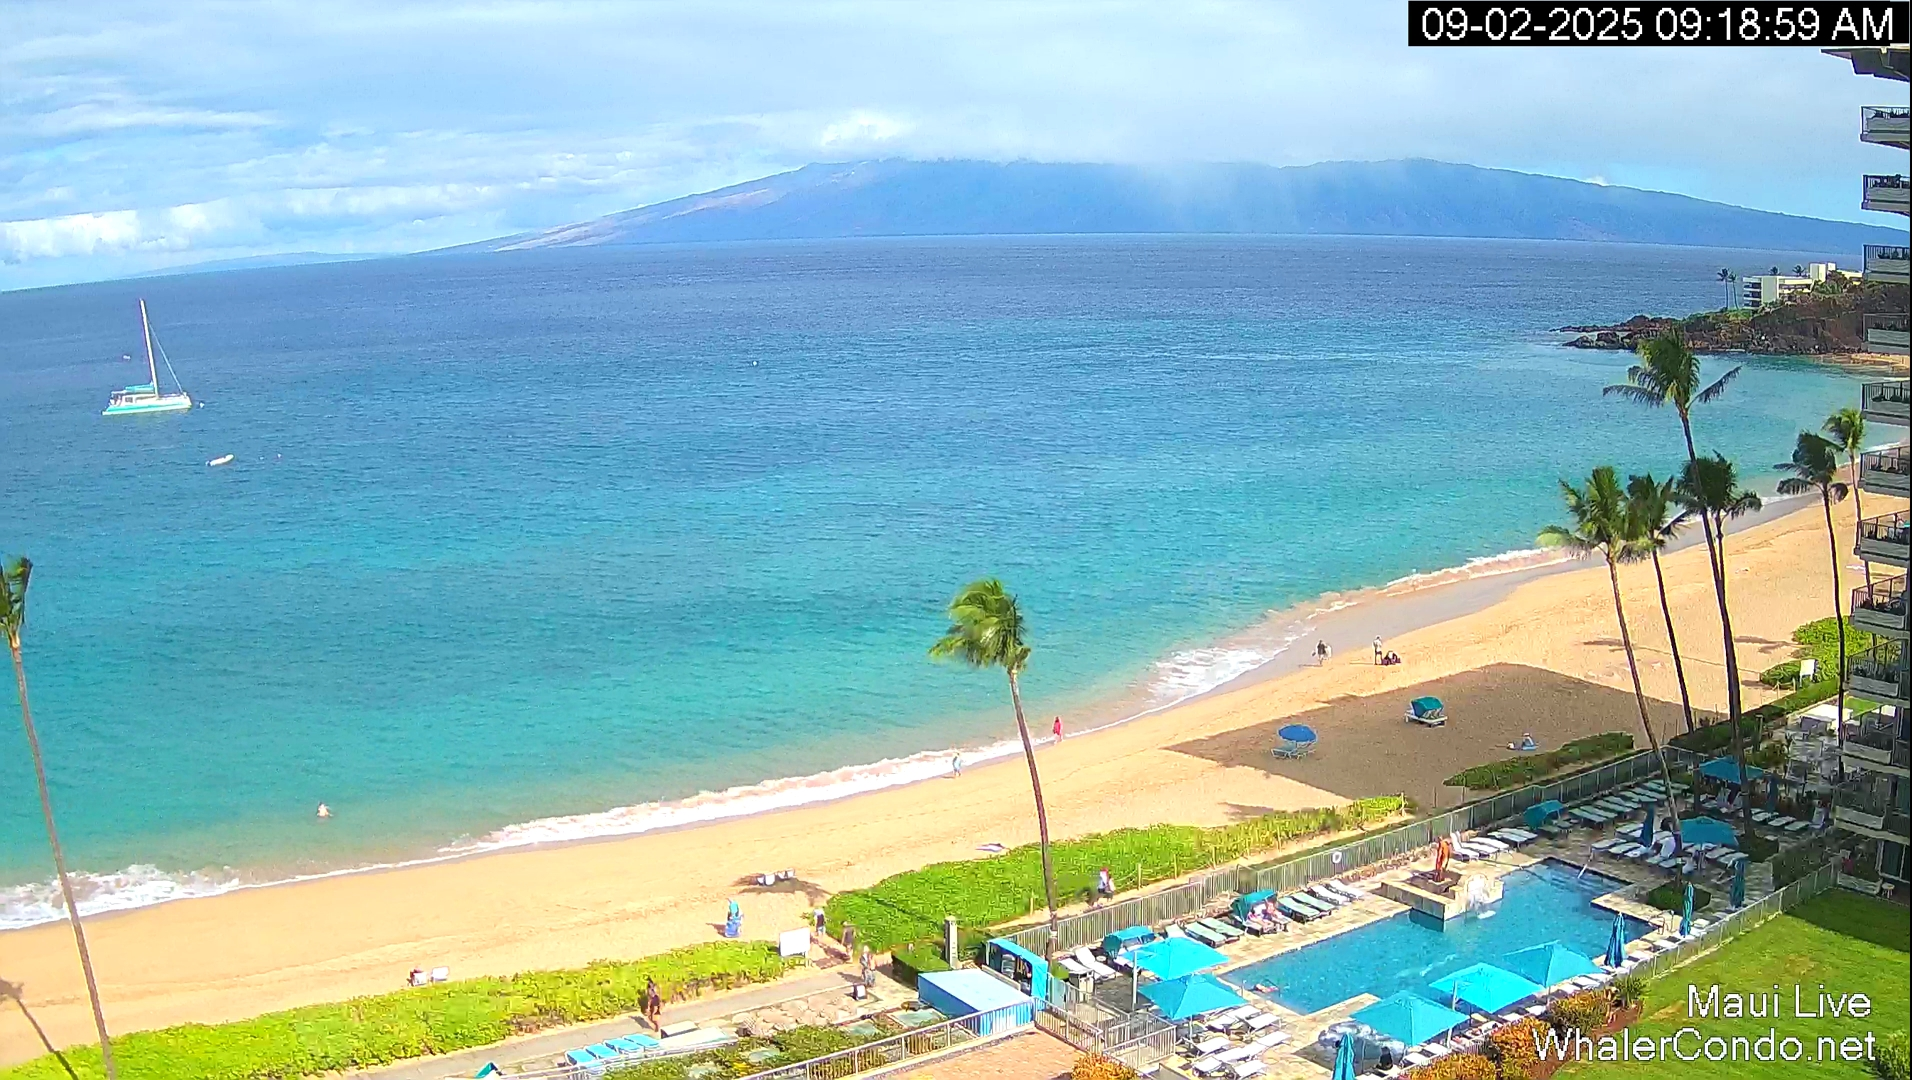boat: (101, 298, 193, 416), (474, 1032, 640, 1080)
person: (939, 579, 1034, 640), (1098, 865, 1115, 901), (859, 951, 873, 984), (814, 909, 826, 937), (1315, 639, 1327, 666), (648, 992, 660, 1019), (1373, 635, 1383, 665), (1053, 716, 1063, 745), (1321, 640, 1333, 664), (1381, 650, 1399, 665), (952, 752, 962, 778)
